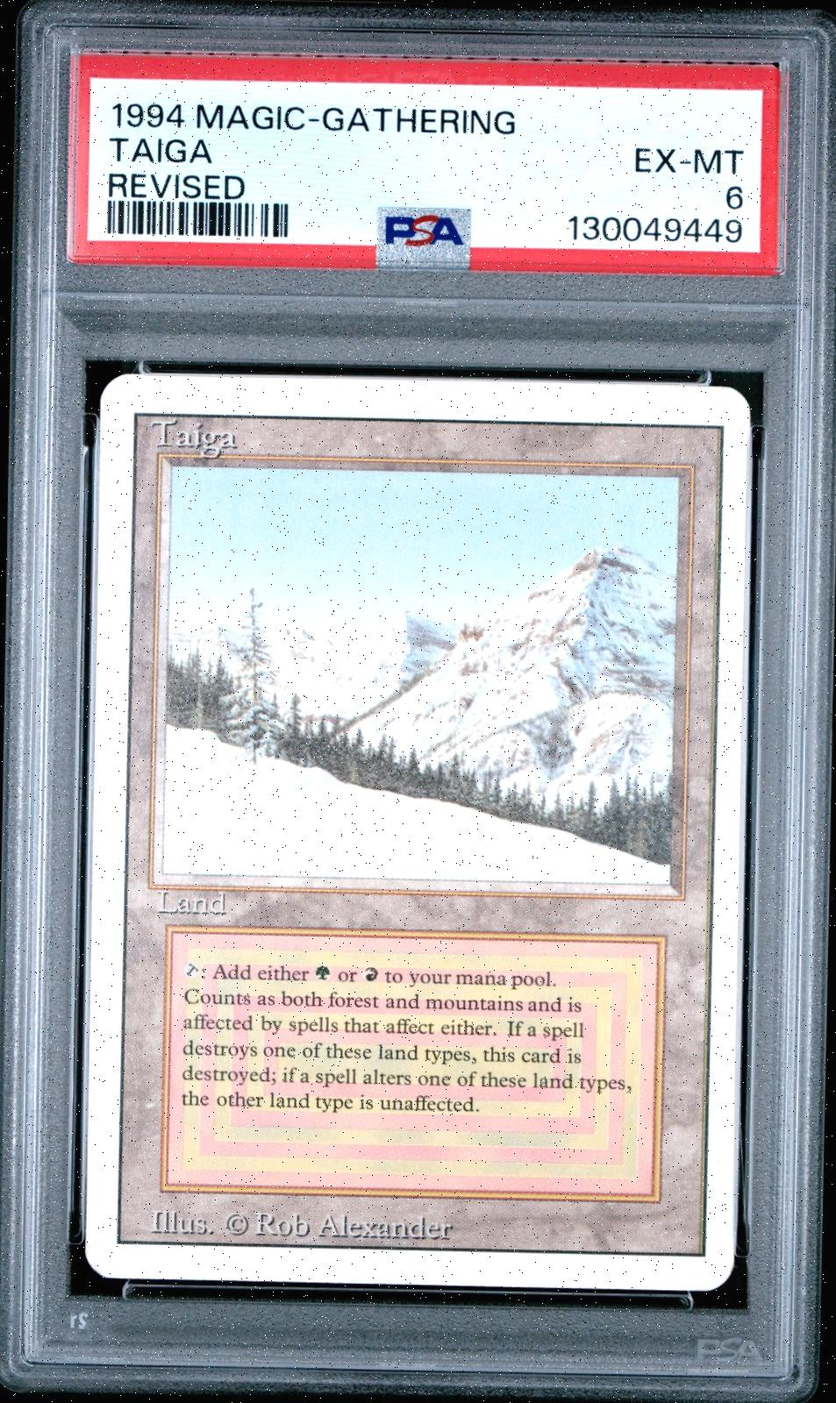card-2UtV: (83, 374, 750, 1292)
